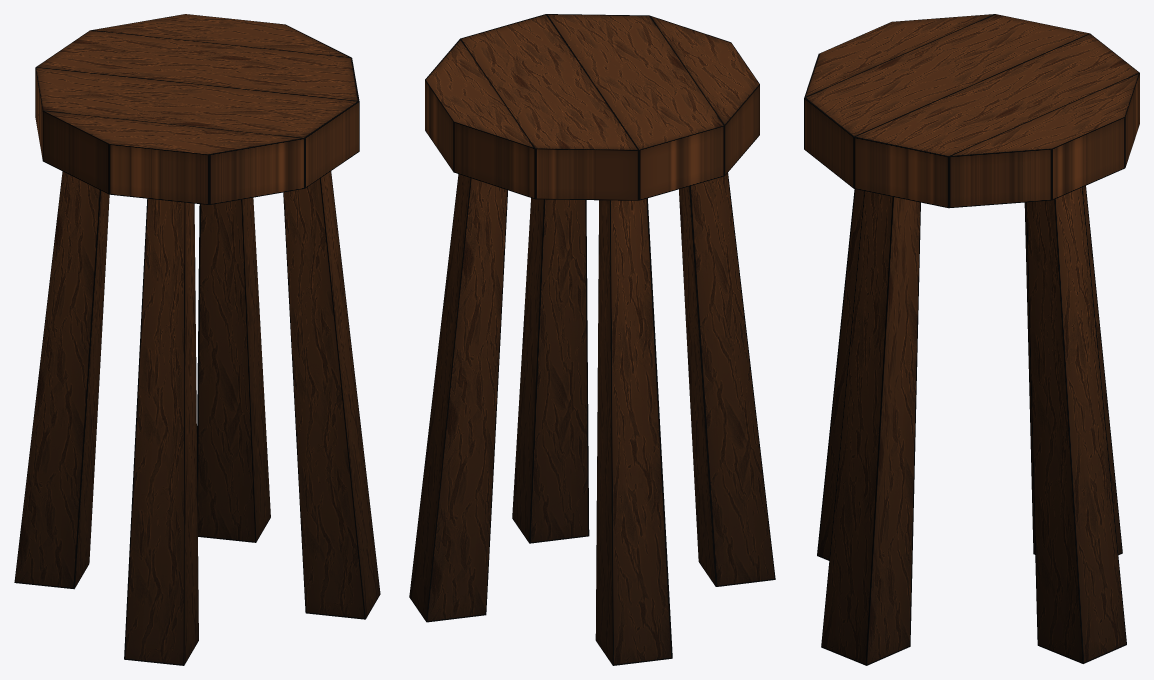
Rendered from stool.fbx.
The picture shows the model from 3 angles, left to right: view 1: azimuth 30°, elevation 25°; view 2: azimuth 150°, elevation 25°; view 3: azimuth 270°, elevation 25°; orthographic projection. The views are drawn at different scales.
Parts seen in each view (by area): view 1: pasted__stool4; view 2: pasted__stool4; view 3: pasted__stool4.
Boxes of the visible parts, x1,y1,x2,y2 form: pasted__stool4: (14,14,380,665); pasted__stool4: (409,14,775,665); pasted__stool4: (804,14,1139,665).
Size of the model in its own units: 14.26 by 24 by 14.18.
Materials: 1 (1 with a texture image).
